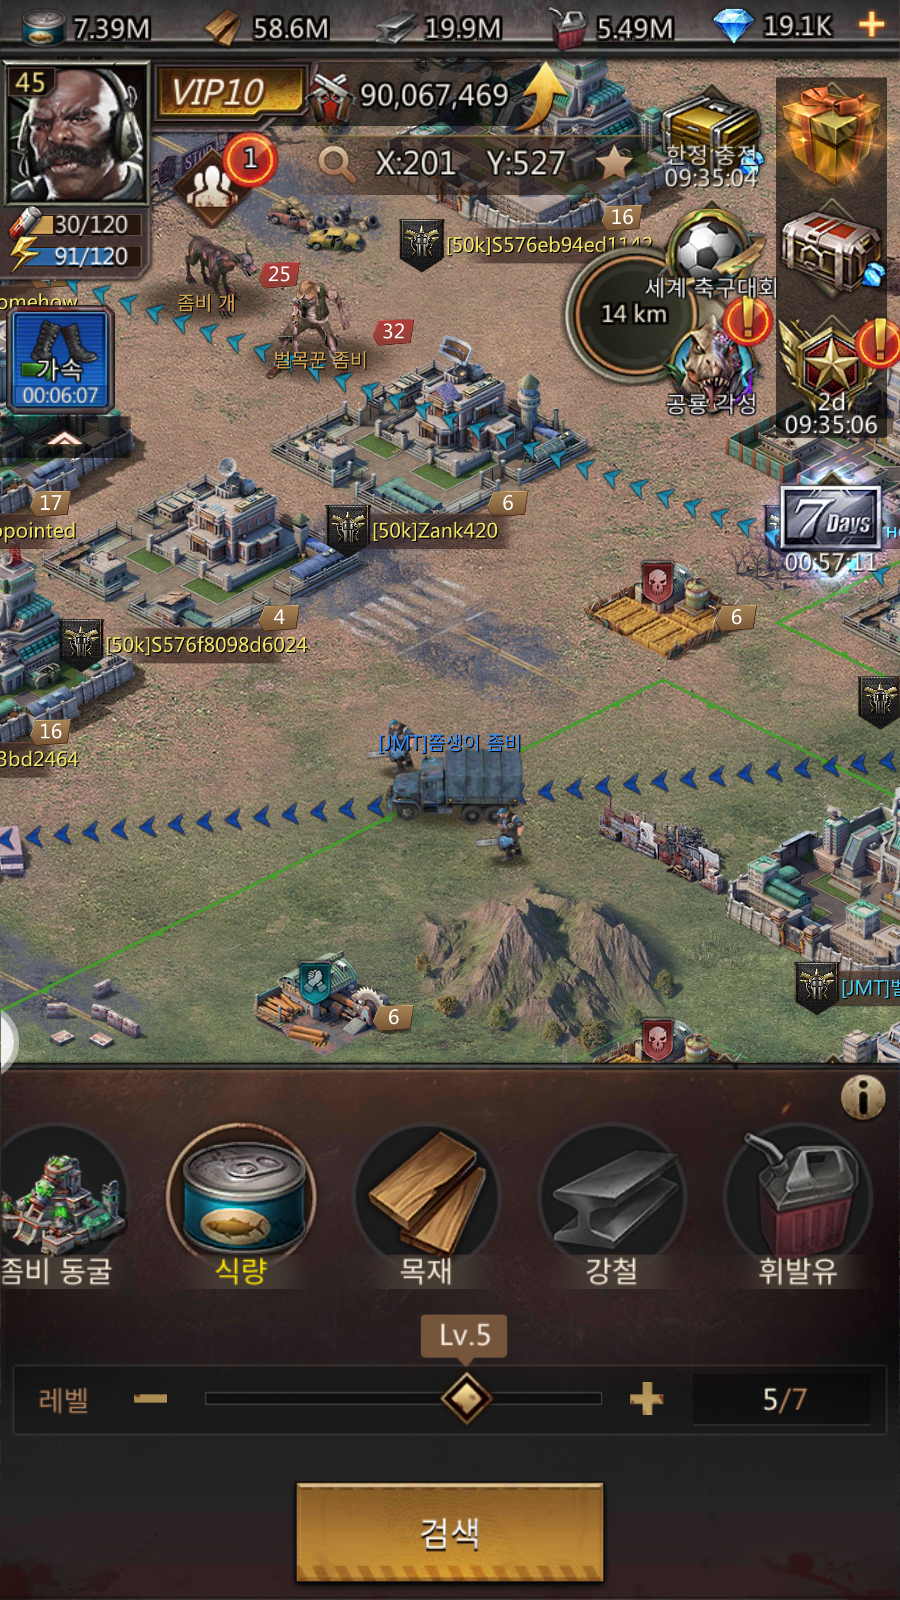rss_food_in_panel: (164, 1120, 322, 1295)
rss_gas_in_panel: (732, 1120, 876, 1298)
rss_lv5: (416, 1313, 510, 1359)
rss_minus_in_panel: (119, 1364, 181, 1424)
rss_plus_in_panel: (614, 1371, 675, 1427)
rss_search_in_panel: (298, 1484, 598, 1578)
rss_steel_in_panel: (537, 1122, 697, 1298)
rss_wood_in_panel: (354, 1120, 502, 1295)
troops_cnt_1: (159, 125, 286, 225)
